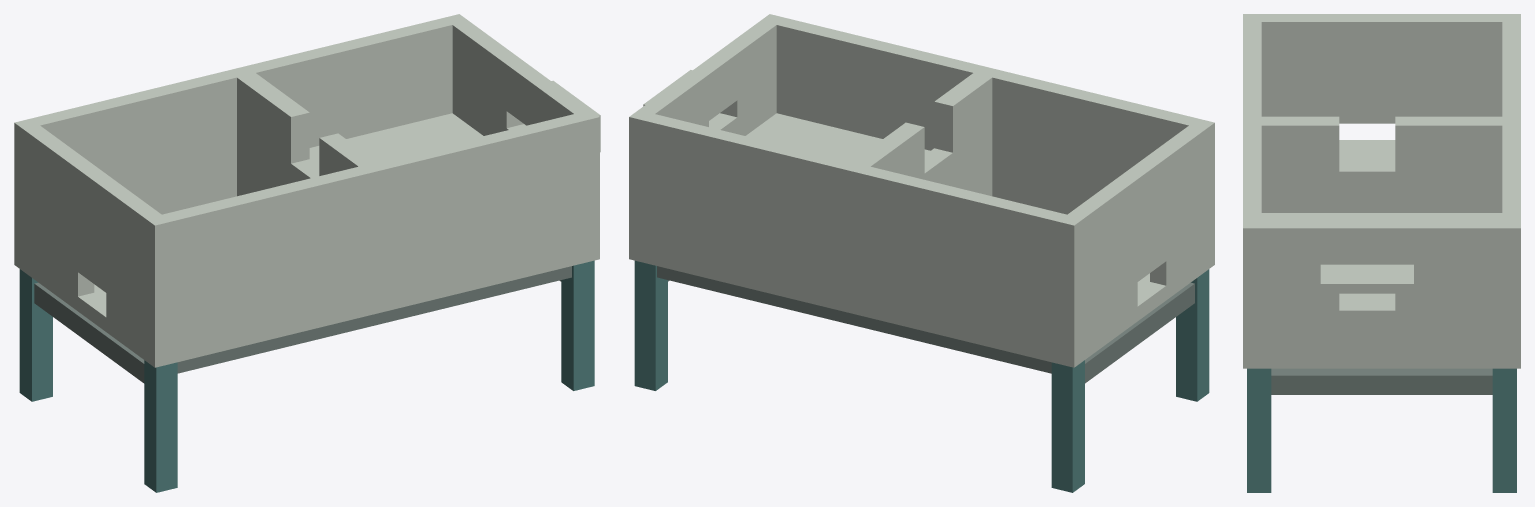
3 renders of one model, left to right at view 1: azimuth 30°, elevation 25°; view 2: azimuth 150°, elevation 25°; view 3: azimuth 270°, elevation 25°, orthographic.
Parts seen in each view (by area): view 1: WholeDeepAndRaisedWellShellWithOffsetWeirAndSideMouths, WholeLongBearingRail_-1, WholeGroundLeg_-1_-1, WholeGroundLeg_1_-1, WholeGroundLeg_-1_1, WholeEndBearingRail_-1; view 2: WholeDeepAndRaisedWellShellWithOffsetWeirAndSideMouths, WholeLongBearingRail_1, WholeGroundLeg_-1_1, WholeGroundLeg_1_1, WholeGroundLeg_-1_-1, WholeEndBearingRail_-1; view 3: WholeDeepAndRaisedWellShellWithOffsetWeirAndSideMouths, WholeEndBearingRail_1, WholeGroundLeg_1_-1, WholeGroundLeg_1_1.
Boxes of the visible parts, x1=… form: WholeDeepAndRaisedWellShellWithOffsetWeirAndSideMouths: x1=14, y1=14, x2=600, y2=367; WholeLongBearingRail_-1: x1=177, y1=266, x2=571, y2=373; WholeGroundLeg_-1_-1: x1=144, y1=360, x2=177, y2=492; WholeGroundLeg_1_-1: x1=561, y1=260, x2=594, y2=390; WholeGroundLeg_-1_1: x1=19, y1=269, x2=52, y2=401; WholeEndBearingRail_-1: x1=34, y1=282, x2=144, y2=383; WholeDeepAndRaisedWellShellWithOffsetWeirAndSideMouths: x1=629, y1=14, x2=1214, y2=367; WholeLongBearingRail_1: x1=657, y1=266, x2=1051, y2=373; WholeGroundLeg_-1_1: x1=1051, y1=360, x2=1084, y2=492; WholeGroundLeg_1_1: x1=634, y1=260, x2=667, y2=390; WholeGroundLeg_-1_-1: x1=1176, y1=269, x2=1209, y2=401; WholeEndBearingRail_-1: x1=1085, y1=282, x2=1194, y2=383; WholeDeepAndRaisedWellShellWithOffsetWeirAndSideMouths: x1=1243, y1=14, x2=1520, y2=368; WholeEndBearingRail_1: x1=1271, y1=368, x2=1492, y2=394; WholeGroundLeg_1_-1: x1=1247, y1=368, x2=1271, y2=492; WholeGroundLeg_1_1: x1=1492, y1=368, x2=1516, y2=492.
Bounding box in the file's own units: 2.07 × 1.1 × 1.04.
